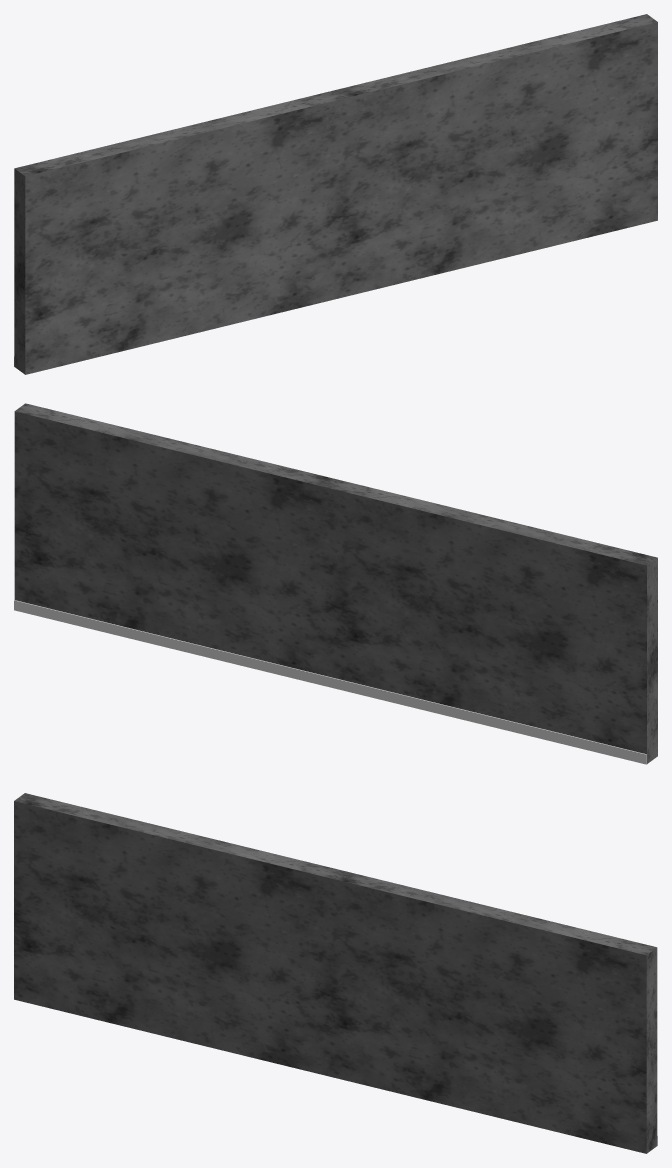
File: double mur 5m 1.fbx
3 renders of one model, top to bottom at view 1: azimuth 30°, elevation 25°; view 2: azimuth 150°, elevation 25°; view 3: azimuth 330°, elevation 25°, orthographic.
Parts seen in each view (by area): view 1: murOK, Box016; view 2: murOK, Box016, bande, Box017; view 3: Box016, murOK.
Part boxes in pixels (x1,y1,x2,y2): murOK: (14, 91, 341, 374); Box016: (331, 14, 657, 297); murOK: (330, 480, 657, 763); Box016: (14, 403, 341, 676); bande: (330, 677, 646, 764); Box017: (14, 600, 330, 687); Box016: (330, 870, 657, 1153); murOK: (14, 793, 340, 1076).
Bounding box in the file's own units: 1000 × 300 × 31.41.
